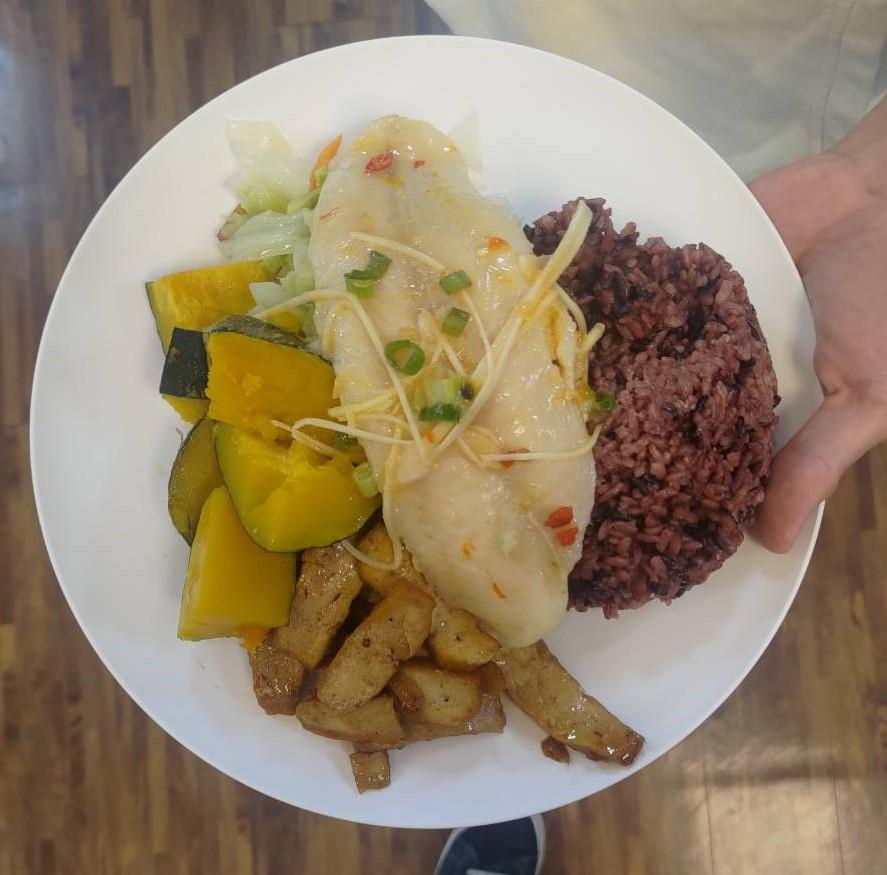big fried chicken leg: (22, 38, 840, 829)
braised fish: (520, 200, 787, 622)
braised fish fillet: (242, 530, 648, 778), (128, 256, 370, 649), (232, 104, 339, 333)
braised pork ribs: (312, 122, 610, 648)
